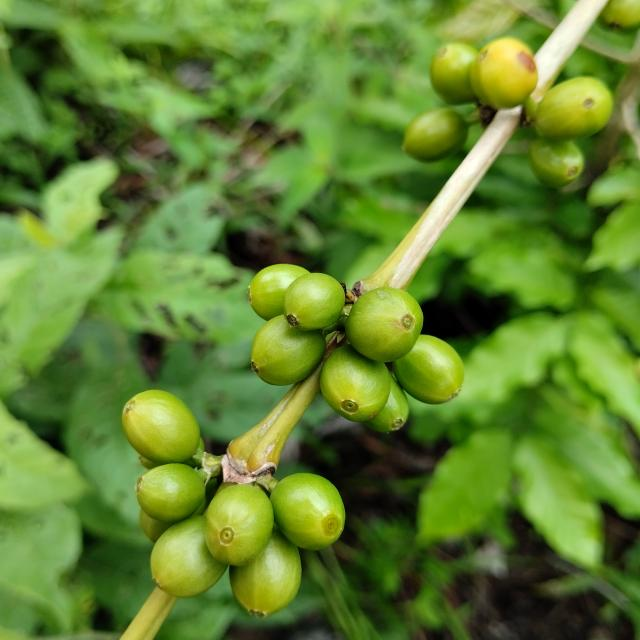green: (229, 528, 301, 618), (150, 516, 227, 599), (345, 287, 424, 363), (121, 390, 200, 465), (269, 474, 345, 551), (204, 485, 274, 567), (320, 345, 391, 422), (251, 315, 326, 386), (535, 76, 614, 139), (393, 335, 465, 404), (135, 464, 205, 523), (403, 107, 469, 161), (284, 273, 345, 331), (248, 264, 310, 321), (430, 41, 479, 104), (530, 138, 585, 188), (364, 376, 409, 433), (139, 510, 173, 543)
red: (470, 37, 538, 108)
